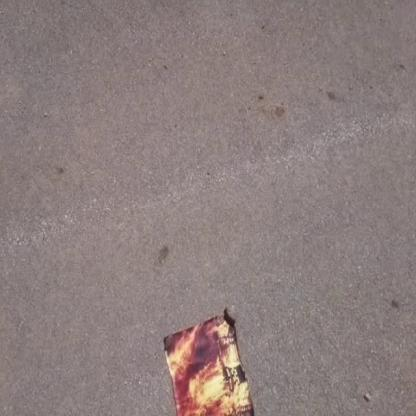fire-poster: (161, 306, 256, 415)
